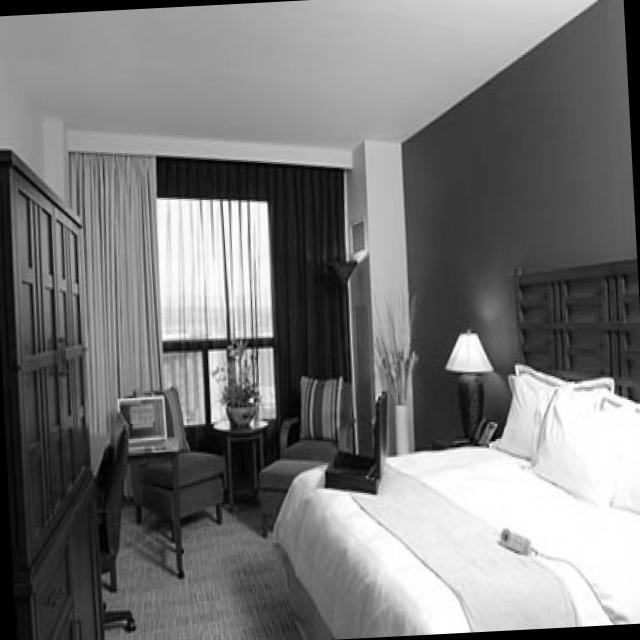2001: (138, 132, 163, 294), (179, 221, 193, 276)
2011: (73, 200, 98, 296)
bouquet: (11, 274, 42, 318)
cabinet door: (187, 121, 206, 339), (0, 65, 17, 272), (31, 341, 47, 474), (6, 398, 27, 477)
cabinets: (109, 331, 214, 470), (62, 310, 109, 372)
ceiling beam: (0, 6, 194, 152)
ceiling lamps: (142, 29, 154, 49), (16, 33, 27, 52), (128, 68, 137, 86), (12, 129, 21, 141), (34, 129, 43, 138)
chair -occluded-: (38, 298, 58, 393)
column occluded: (87, 133, 112, 306), (129, 128, 145, 266)
counter bottom: (107, 320, 210, 447), (2, 331, 40, 440), (59, 297, 124, 320)
dishwasher: (23, 367, 38, 476)
door handle: (14, 196, 50, 289)
lamp crop: (79, 241, 92, 273)
pan: (153, 323, 175, 352)
plant -x: (103, 138, 134, 269), (116, 264, 148, 313), (0, 288, 20, 356), (73, 278, 95, 310)
pot hanger: (127, 303, 151, 352)
sofa bed: (155, 290, 183, 311)
stove burner: (121, 340, 181, 367)
table -X: (16, 306, 66, 385)
